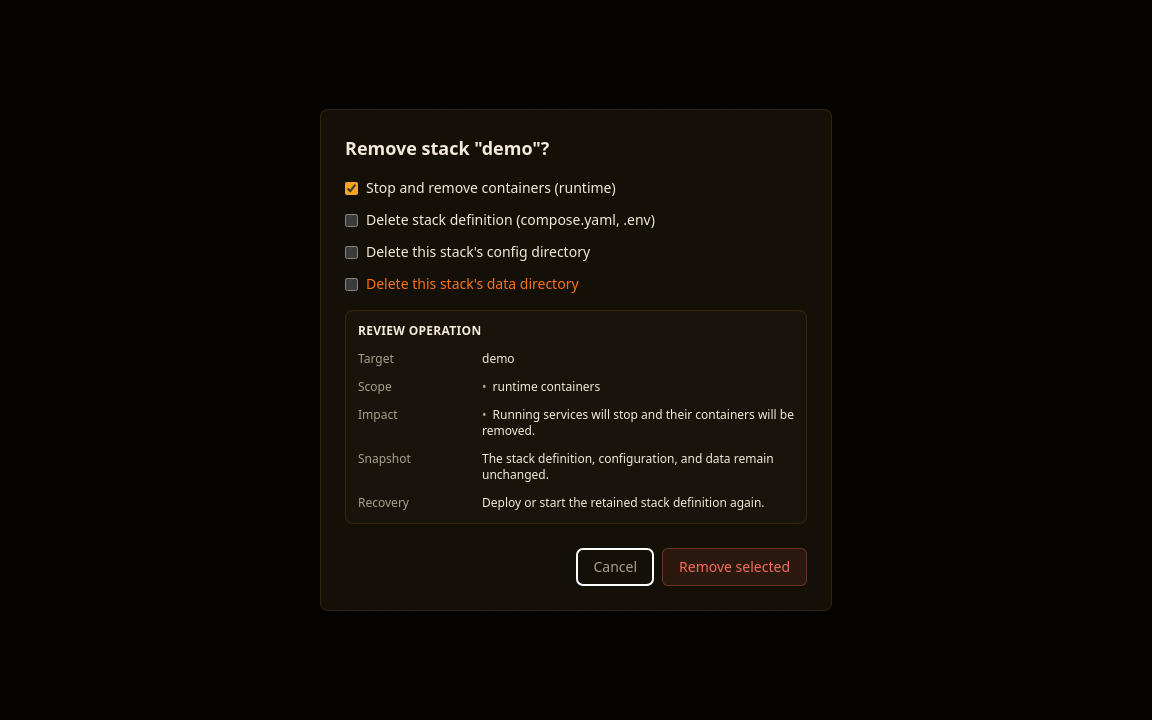
Test case: DeleteStackDialog › shows error on delete failure
The image size is (1152, 720).
Click the button with test id "delete-confirm" at (735, 567), box [662,548,807,586]
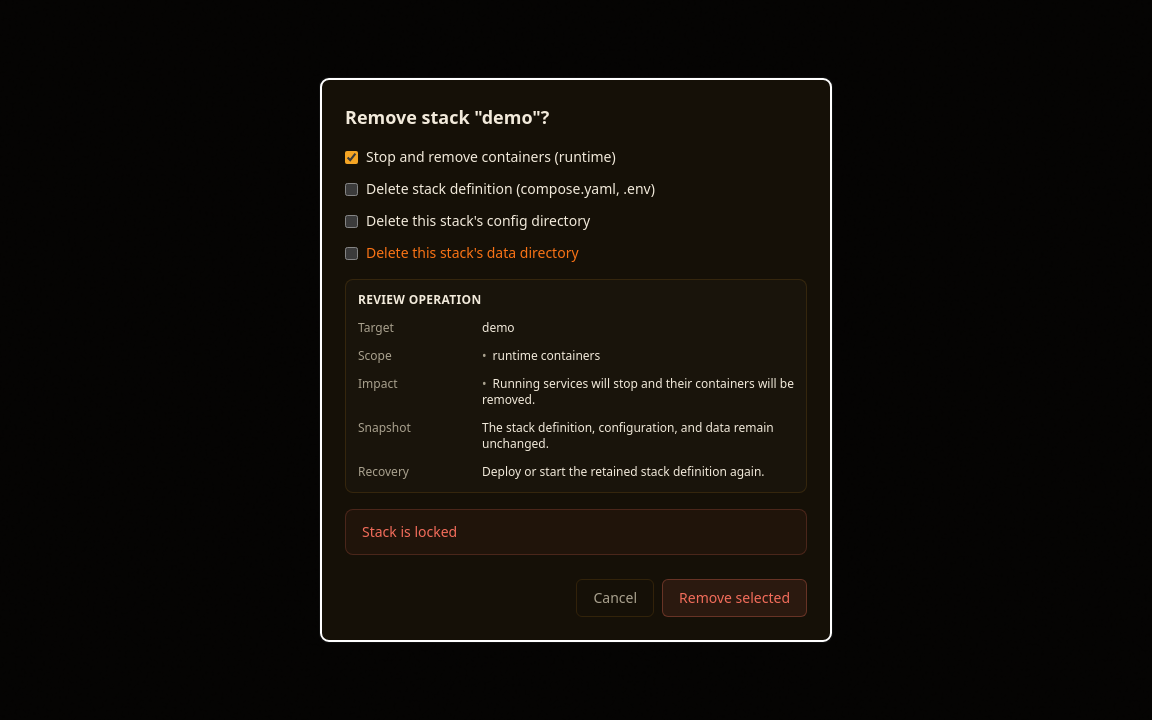
expect the text "Stack is locked" is shown: met, box [345,509,807,555]
